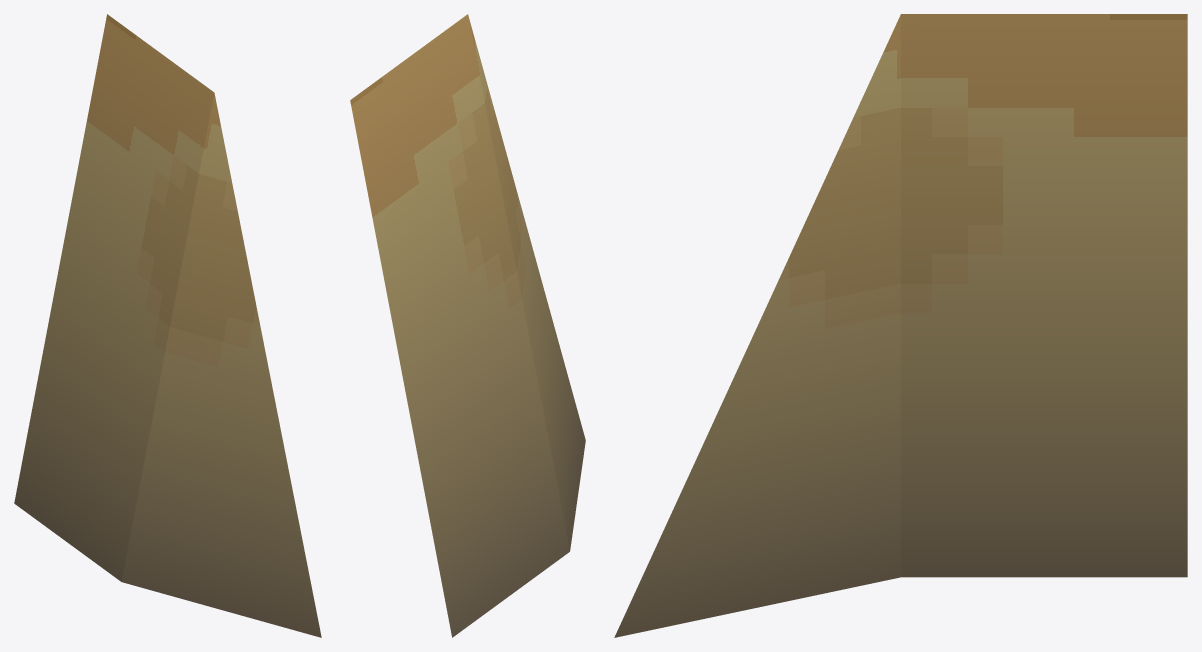
3 views of the same model, side by side, from view 1: azimuth 30°, elevation 25°; view 2: azimuth 150°, elevation 25°; view 3: azimuth 270°, elevation 25° (orthographic). The views are drawn at different scales.
Size of the model in its own units: 0.25 by 1.2 by 1.
Materials: 1 (1 with a texture image).
